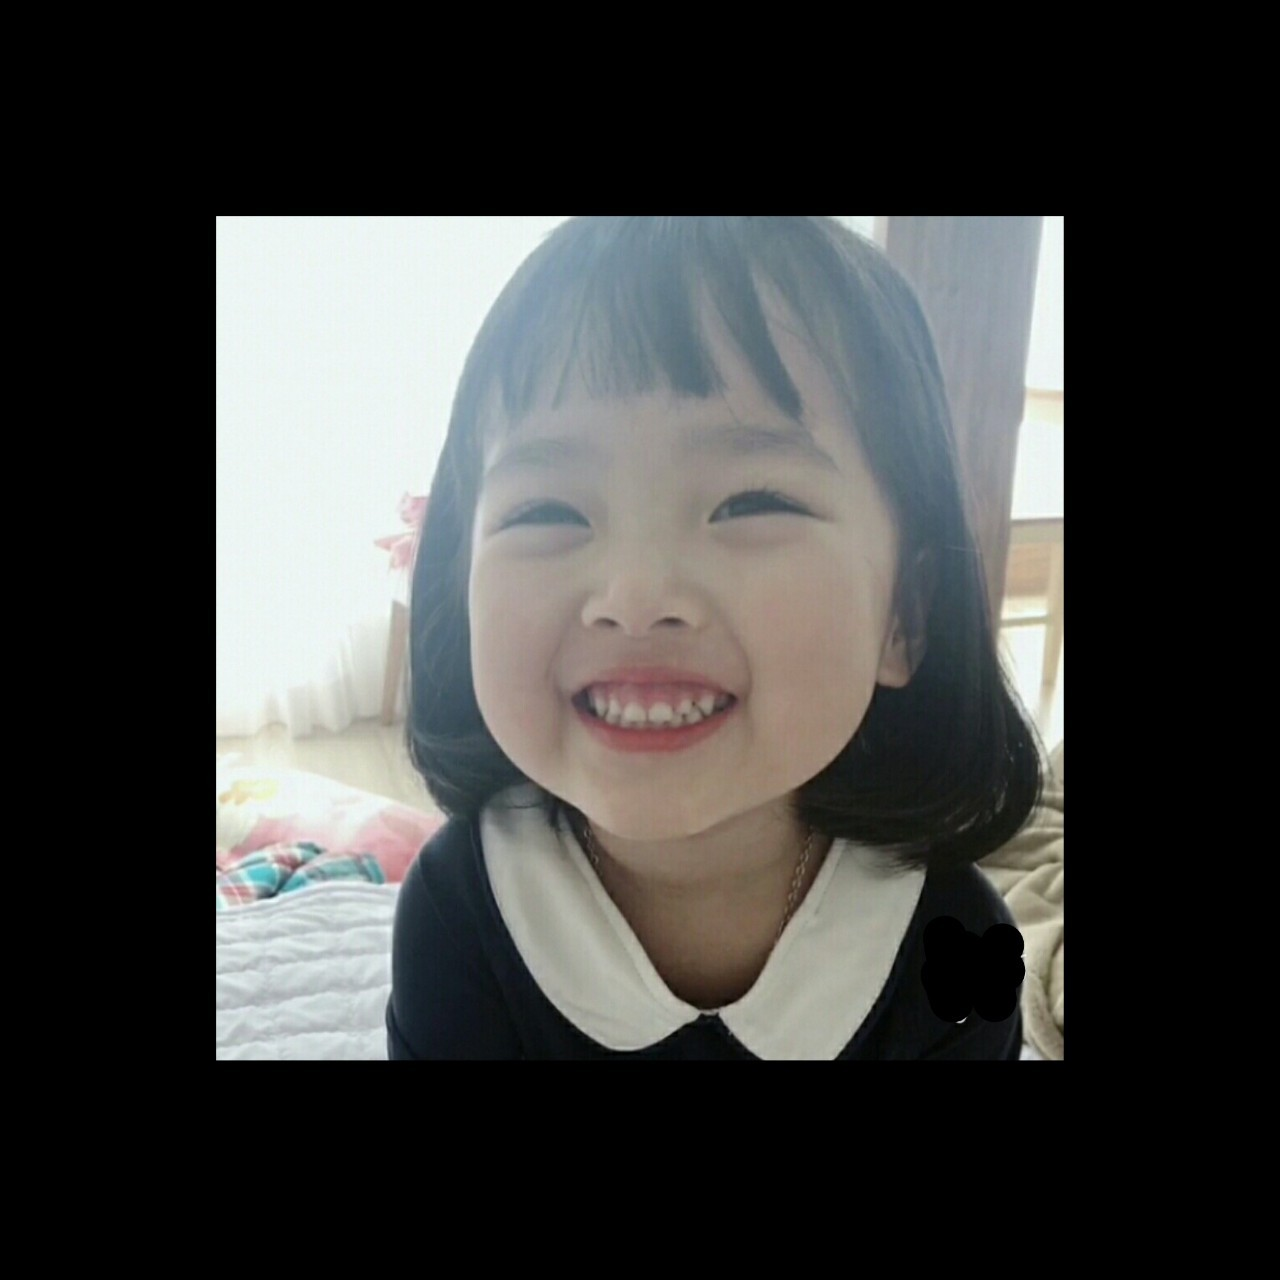people: (228, 214, 1065, 1065)
